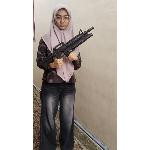Senapan: (38, 25, 98, 75)
